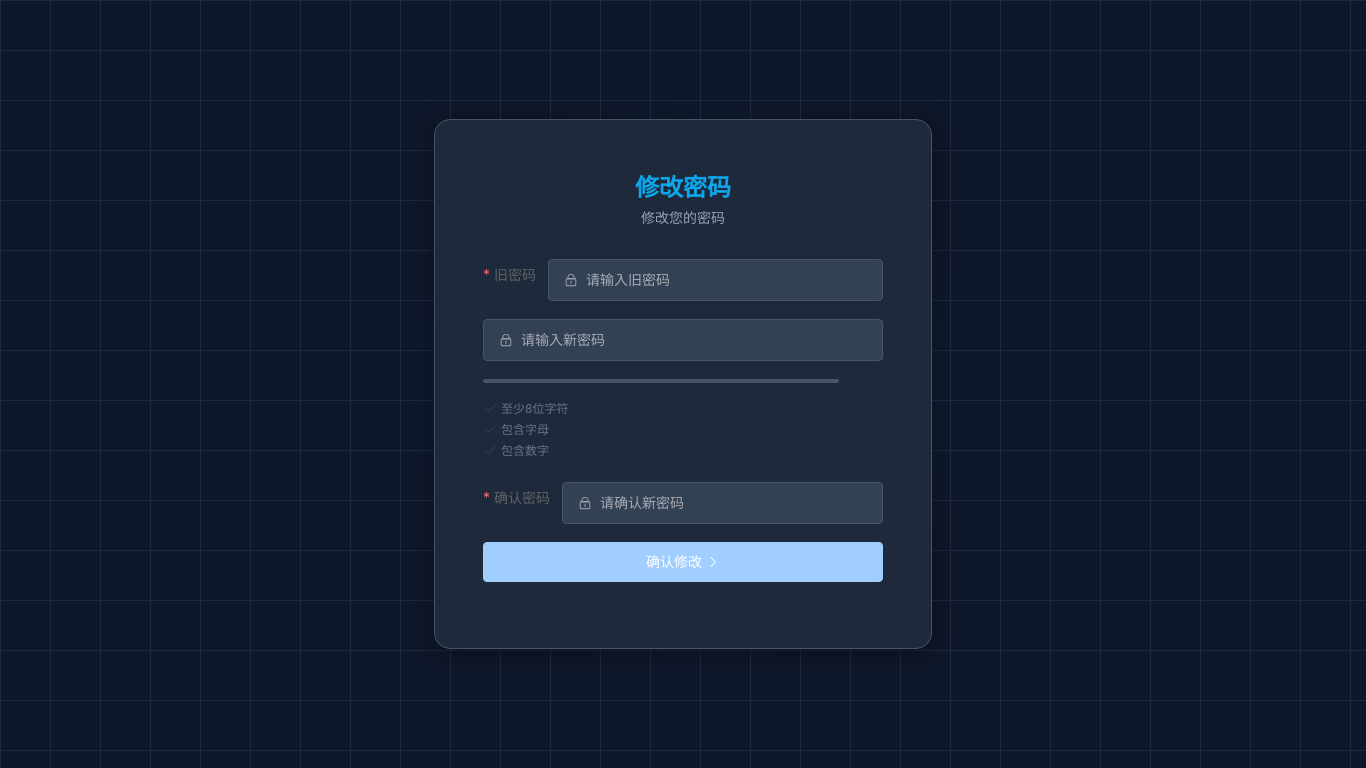
Test: ChangePassword.vue › 密码强度指示器 › 输入弱密码时应显示"弱"
The width and height of the screenshot is (1366, 768).
// 新密码输入框（第二个，第一个是旧密码）
Type "abc" into the password field with placeholder "请输入新密码" at (694, 340), box [521,321,867,359]
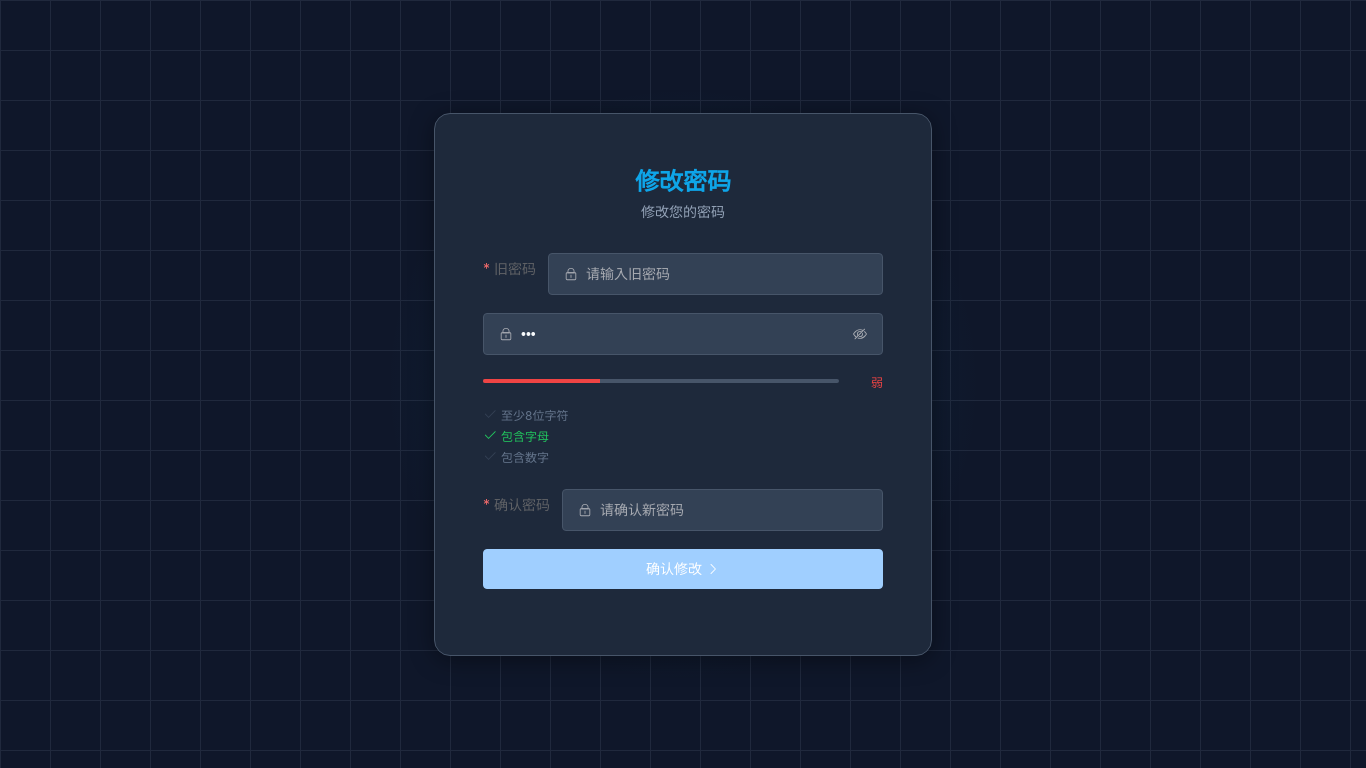
expect the text "弱" is shown: met, box [871,374,883,390]
